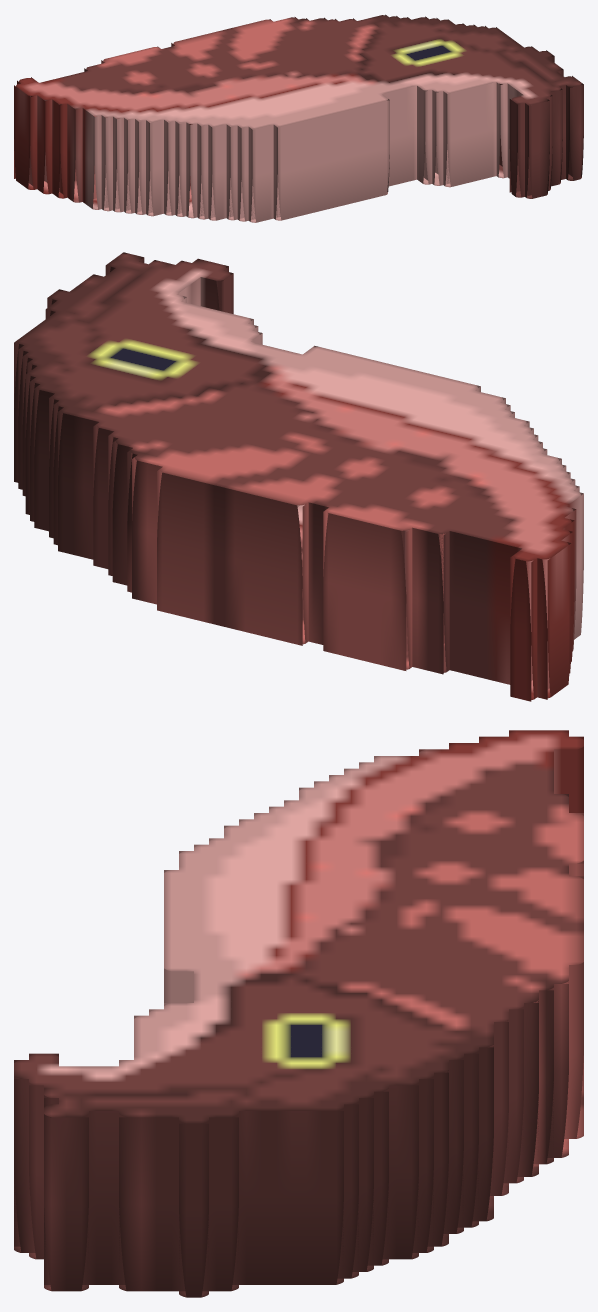
File: cuttleFish_model.fbx
The picture shows the model from 3 angles, top to bottom: view 1: azimuth 30°, elevation 25°; view 2: azimuth 150°, elevation 25°; view 3: azimuth 270°, elevation 25°; orthographic projection. The views are drawn at different scales.
Parts seen in each view (by area): view 1: Cuttlefish_0; view 2: Cuttlefish_0; view 3: Cuttlefish_0.
Boxes of the visible parts, x1,y1,x2,y2 form: Cuttlefish_0: [14, 14, 583, 222]; Cuttlefish_0: [14, 252, 583, 701]; Cuttlefish_0: [14, 730, 583, 1297].
Size of the model in its own units: 48.44 by 10 by 29.69.
Materials: 1 (1 with a texture image).
